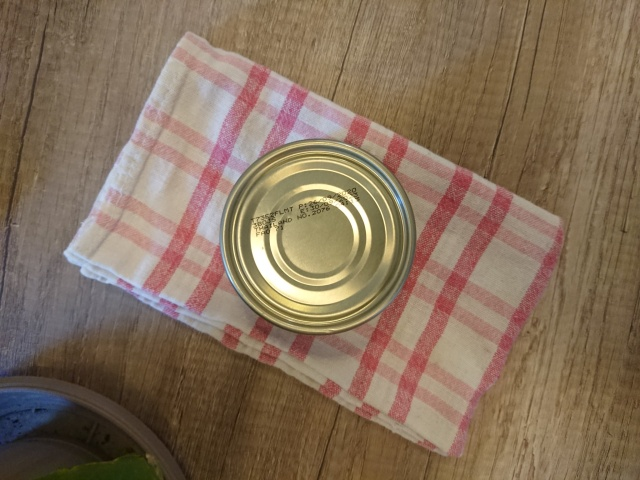Giana Tuna Salad Mexico 185g: (216, 134, 418, 338)
